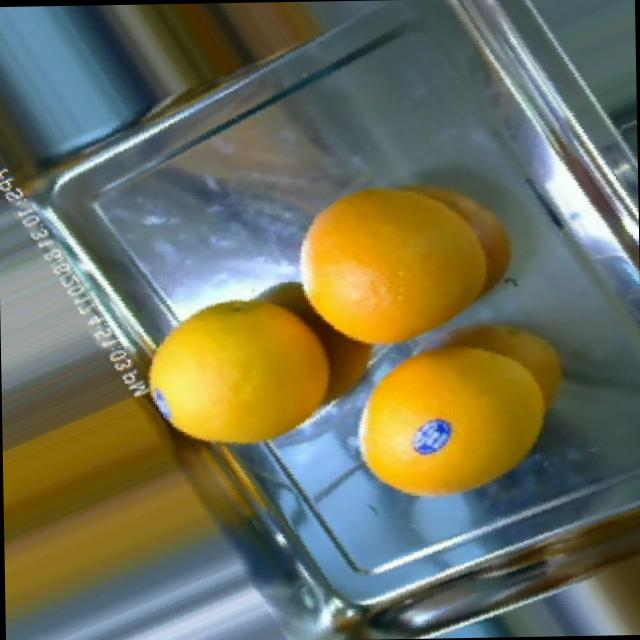Fruit: (346, 143, 542, 352), (193, 0, 339, 78)
